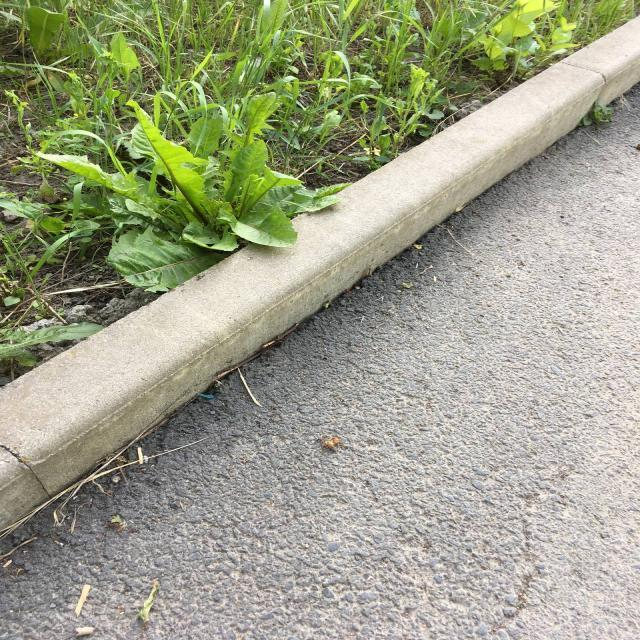bump: (0, 289, 246, 530), (189, 161, 446, 338), (396, 12, 640, 194)
